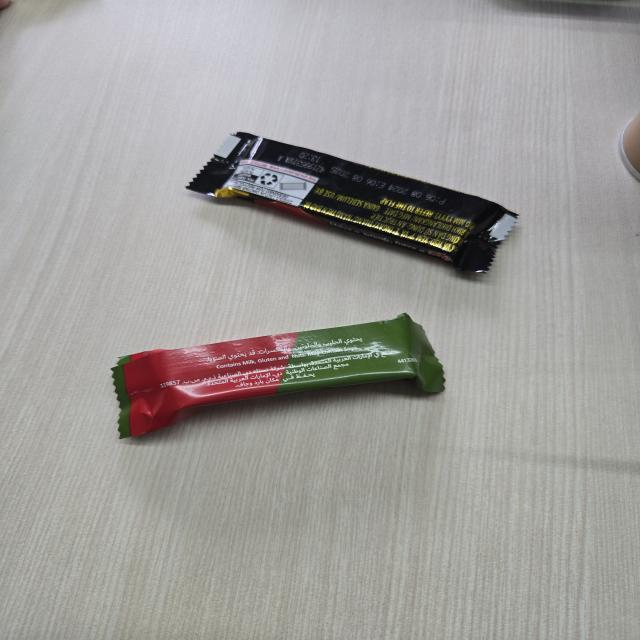chocolate-bar: (181, 126, 527, 280), (107, 314, 454, 442)
